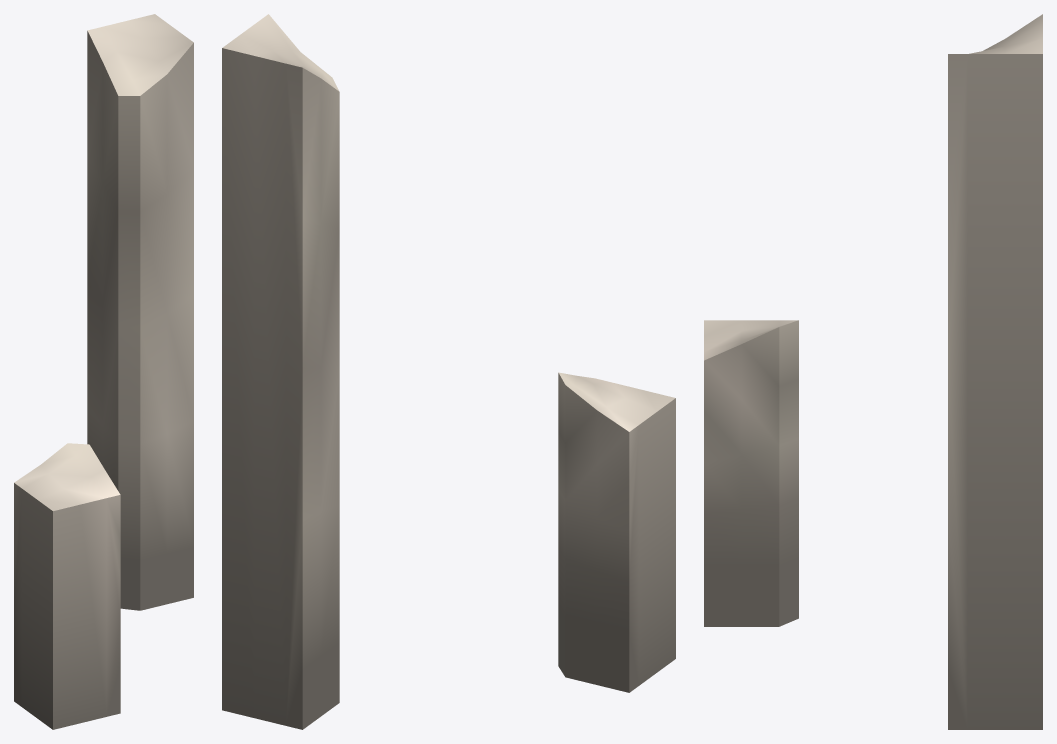
Rendered from SM_VKI_Rock_Cave_COFO_WallSW.fbx.
The picture shows the model from 3 angles, left to right: view 1: azimuth 30°, elevation 25°; view 2: azimuth 150°, elevation 25°; view 3: azimuth 270°, elevation 25°; orthographic projection. The views are drawn at different scales.
Visible parts, largest first — view 1: SM_VKI_Rock_Cave_COFO_WallSW.001; view 2: SM_VKI_Rock_Cave_COFO_WallSW.001; view 3: SM_VKI_Rock_Cave_COFO_WallSW.001.
Boxes of the visible parts, box(x1,y1,x2,y2) form: SM_VKI_Rock_Cave_COFO_WallSW.001: box(14, 14, 193, 729); SM_VKI_Rock_Cave_COFO_WallSW.001: box(222, 14, 675, 729); SM_VKI_Rock_Cave_COFO_WallSW.001: box(704, 14, 1042, 729).
Size of the model in its own units: 1.5 by 3.3 by 1.5.
